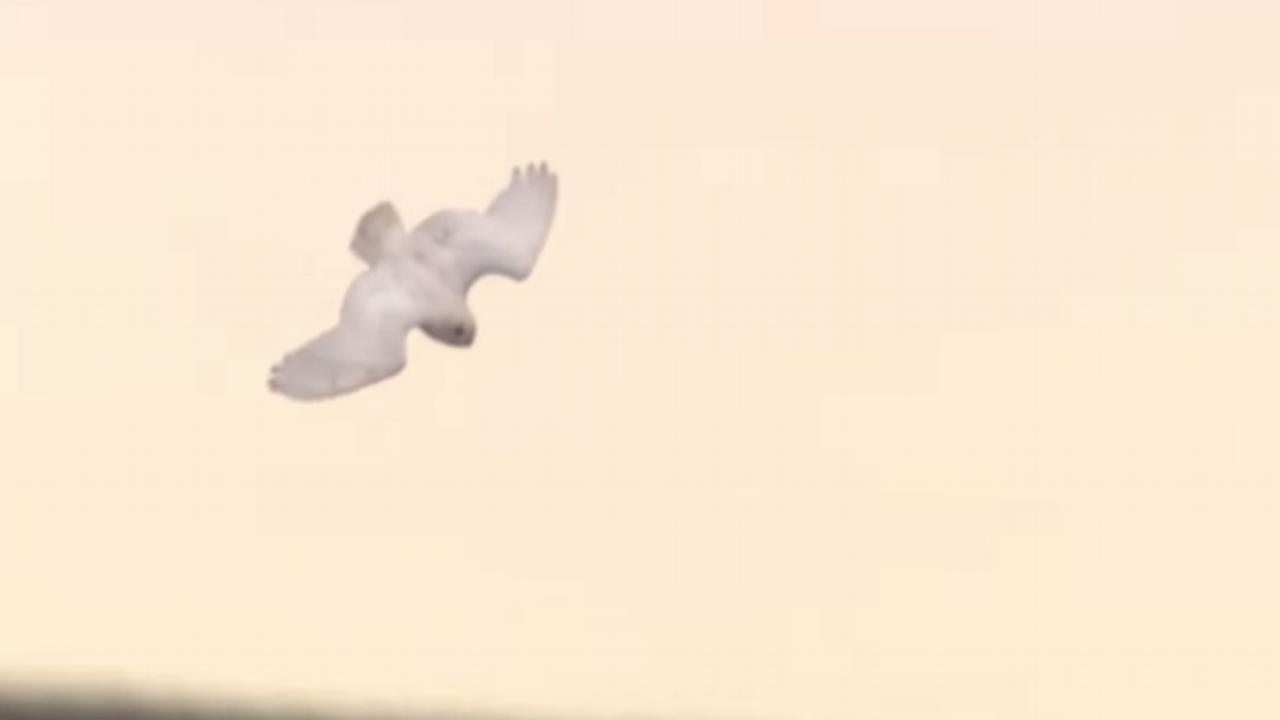Bird: (257, 153, 572, 409)
